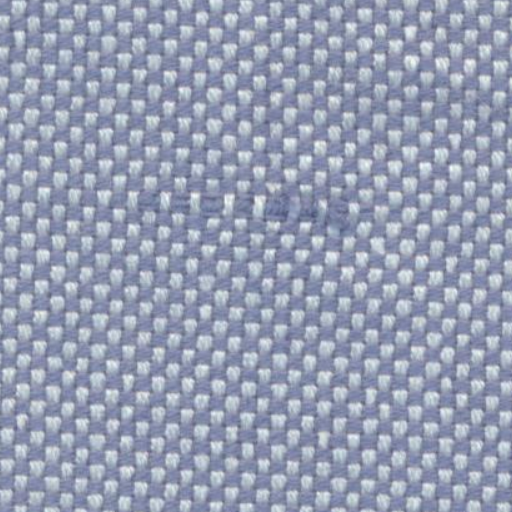TuoSha: (136, 174, 354, 246)
